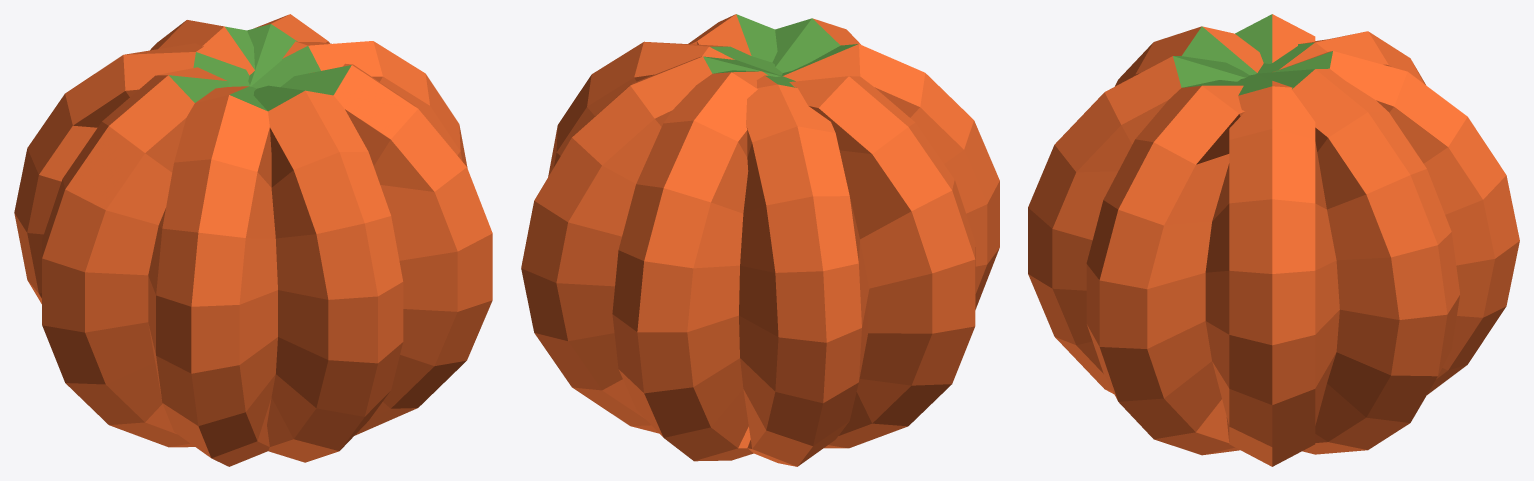
Rendered from veggi-type01.obj.
The picture shows the model from 3 angles, left to right: view 1: azimuth 30°, elevation 25°; view 2: azimuth 150°, elevation 25°; view 3: azimuth 270°, elevation 25°; orthographic projection.
Parts seen in each view (by area): view 1: veggi-type01; view 2: veggi-type01; view 3: veggi-type01.
Part boxes in pixels (<box>): veggi-type01: <box>14,14,492,466</box>; veggi-type01: <box>521,14,999,466</box>; veggi-type01: <box>1028,14,1519,466</box>.
Bounding box in the file's own units: 0.2478 × 0.2173 × 0.2478.
